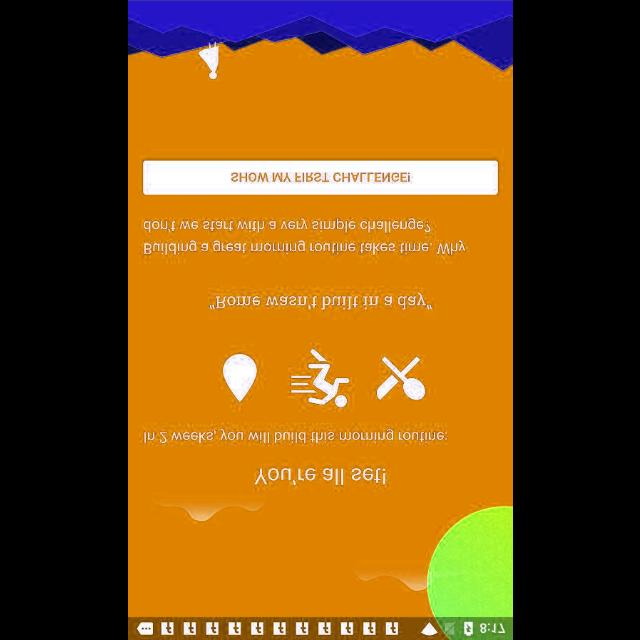backgroundimage: (128, 0, 512, 616)
image: (290, 348, 350, 408), (376, 356, 424, 400), (222, 353, 256, 402)
text: (142, 217, 466, 255), (144, 428, 446, 444), (208, 292, 432, 310), (254, 467, 386, 485)
textbutton: (142, 160, 498, 194)
uppertaskbar: (128, 617, 512, 639)
